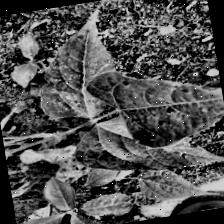ALS: (32, 16, 142, 122), (82, 97, 210, 187), (105, 68, 224, 155)
